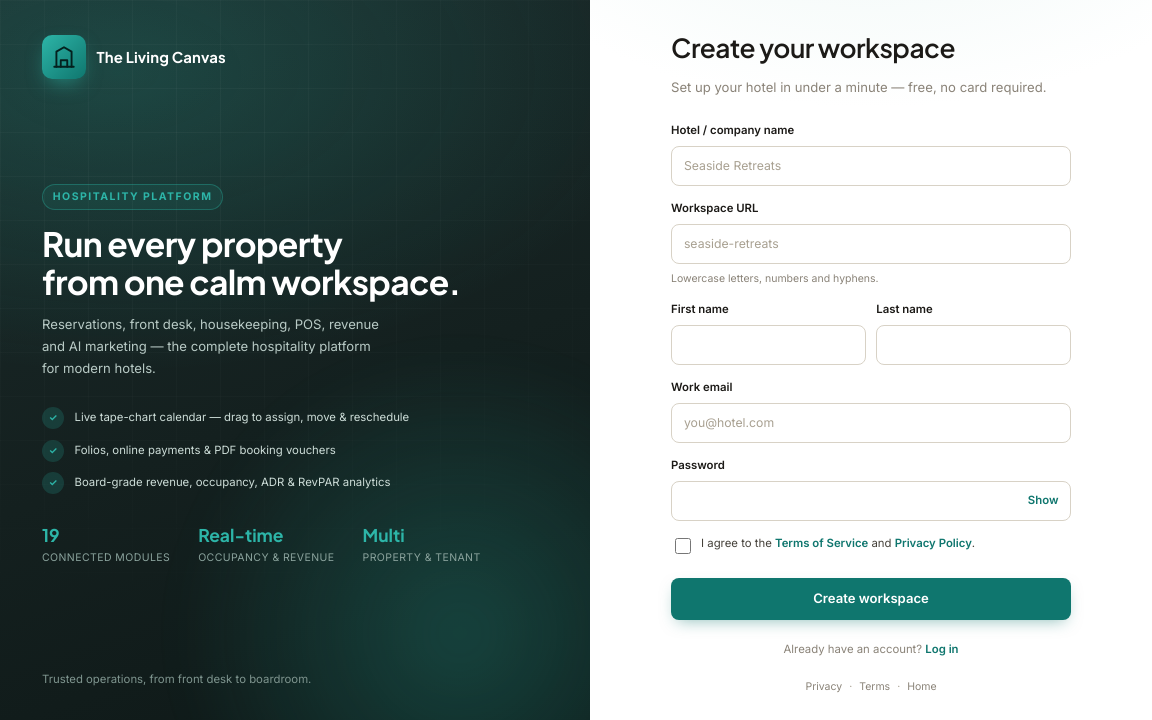
Test: SignupPage validation › shows every field error inline and sends nothing
Type "not-an-email" into the field labelled "Work email" at (871, 423), box [671, 403, 1071, 443]
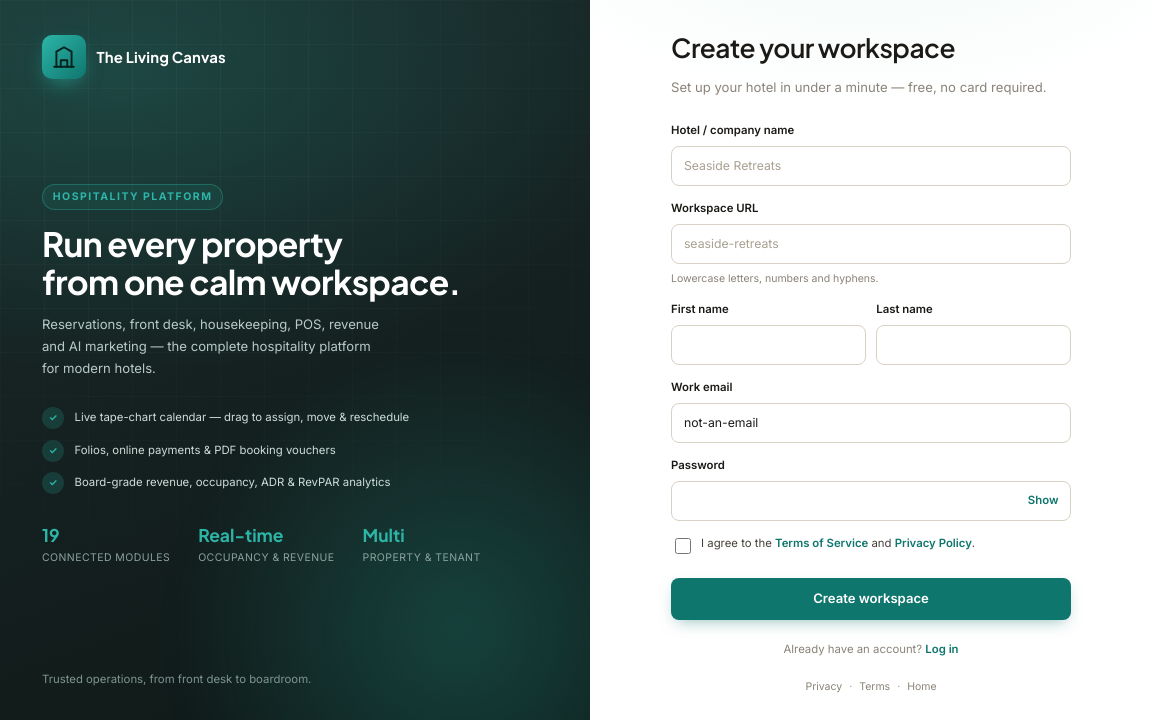
Type "abcdefgh" into the password field labelled "Password" at (871, 501), box [671, 481, 1071, 521]
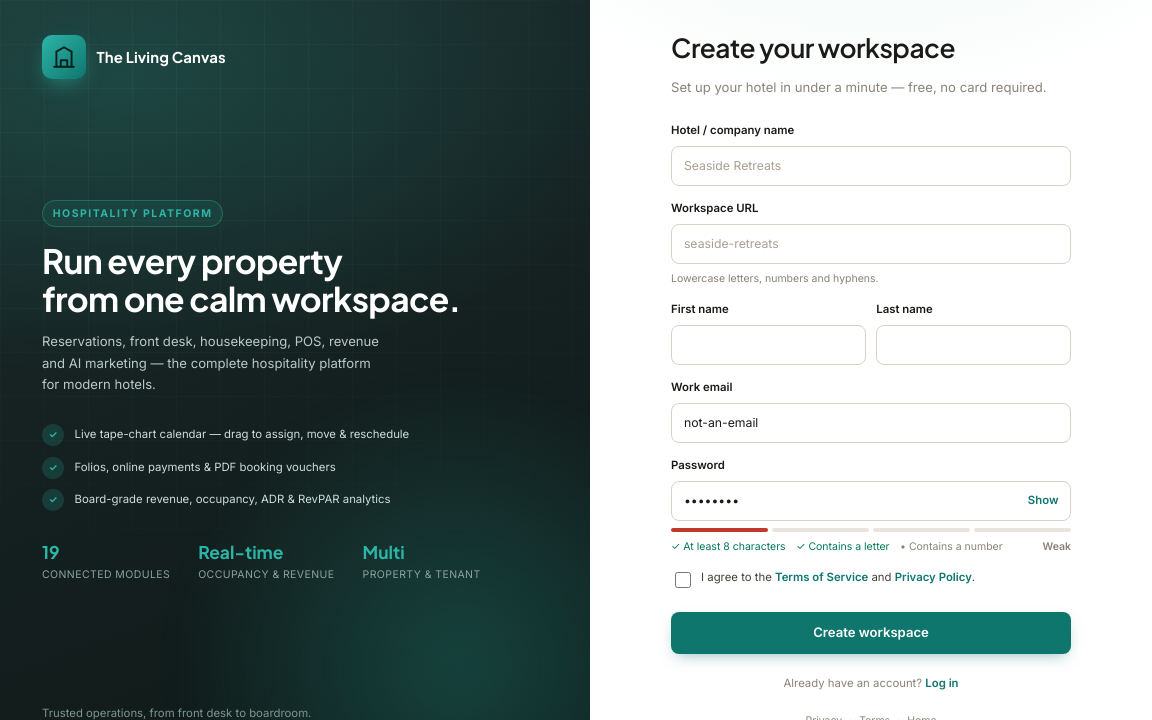
Click the button "Create workspace" at (871, 633), box [671, 612, 1071, 654]
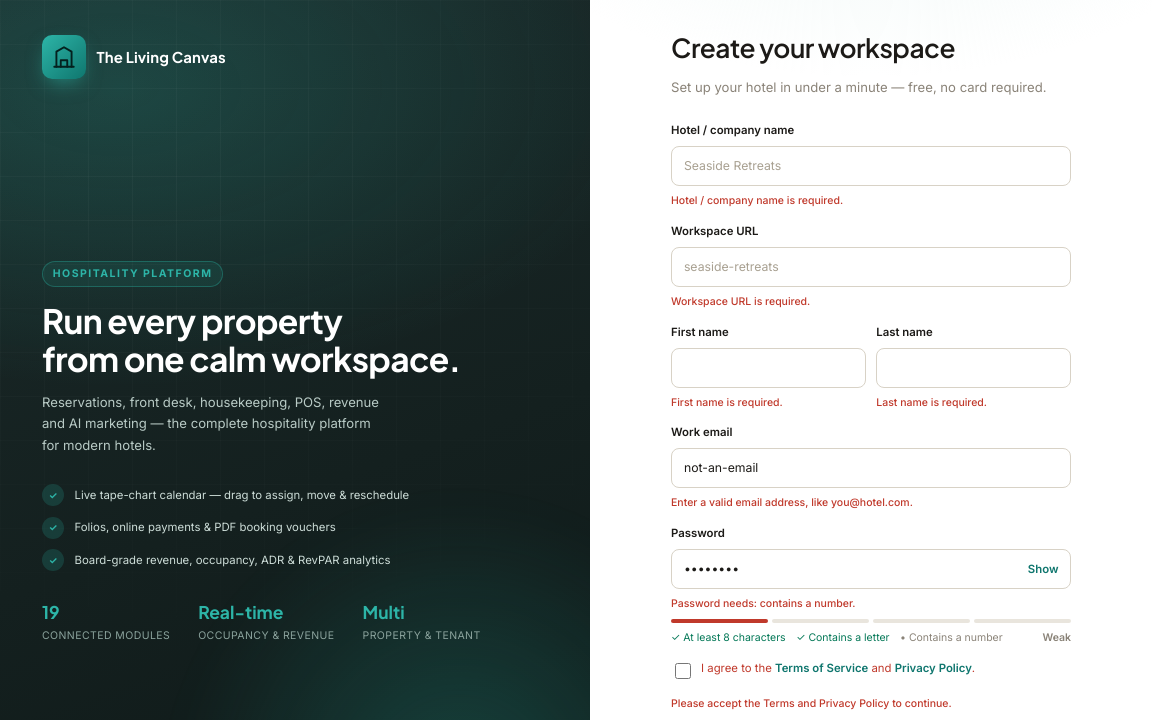
Now the text "Hotel / company name is required." is shown, box [671, 194, 843, 207]
Now the text "Enter a valid email address, like you@hotel.com." is shown, box [671, 496, 913, 509]
Now the text "Password needs: contains a number." is shown, box [671, 597, 856, 610]
